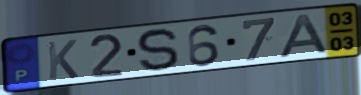2: (89, 32, 125, 79)
6: (186, 22, 222, 68)
7: (240, 16, 277, 62)
A: (277, 12, 333, 59)
K: (45, 38, 81, 82)
S: (135, 26, 182, 75)
